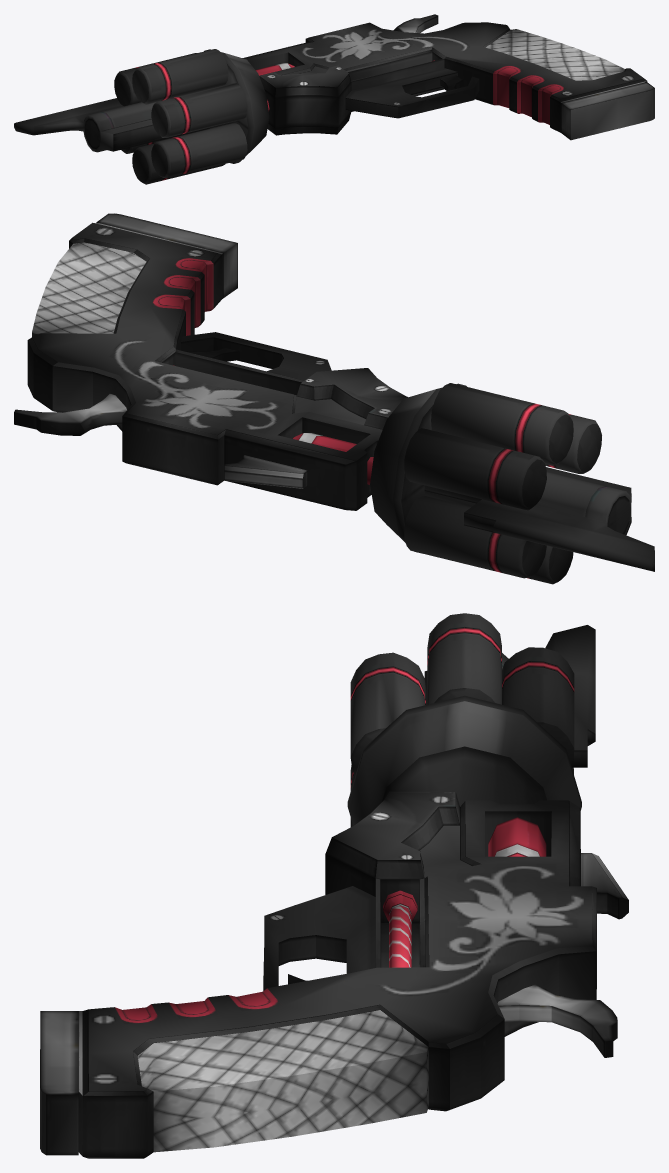
Rendered from miriam.glb.
3 views of the same model, one above another, from view 1: azimuth 30°, elevation 25°; view 2: azimuth 150°, elevation 25°; view 3: azimuth 270°, elevation 25° (orthographic). The views are drawn at different scales.
Visible parts, largest first — view 1: Ch_Miriam_WP_Base; view 2: Ch_Miriam_WP_Base; view 3: Ch_Miriam_WP_Base.
Part boxes in pixels (bbox=[...]): Ch_Miriam_WP_Base: bbox=[14, 14, 654, 184]; Ch_Miriam_WP_Base: bbox=[14, 213, 654, 584]; Ch_Miriam_WP_Base: bbox=[40, 613, 628, 1158].
Bounding box in the file's own units: 0.3774 × 0.0812 × 0.1904.
Materials: 1 (1 with a texture image).
